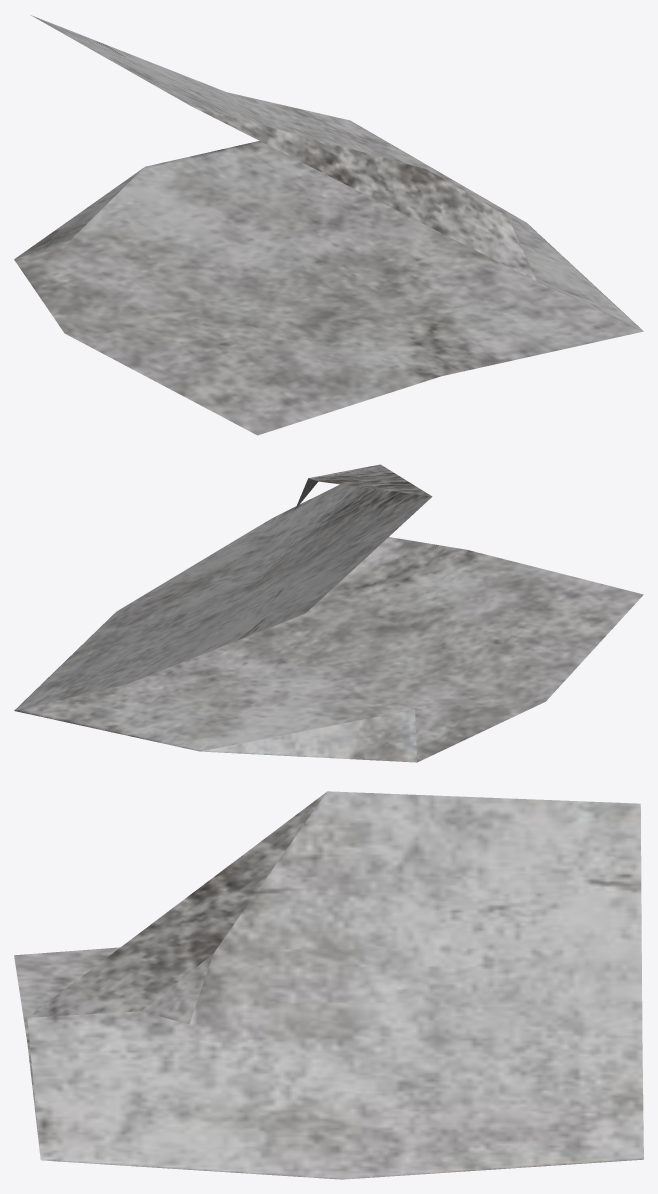
Rendered from prop_paper_ball_b.glb.
The picture shows the model from 3 angles, top to bottom: view 1: azimuth 30°, elevation 25°; view 2: azimuth 150°, elevation 25°; view 3: azimuth 270°, elevation 25°; orthographic projection. The views are drawn at different scales.
Visible parts, largest first — view 1: Paper_06_GEO_Paper6x_0; view 2: Paper_06_GEO_Paper6x_0; view 3: Paper_06_GEO_Paper6x_0.
Part boxes in pixels (box(x1,y1,x2,y2)): Paper_06_GEO_Paper6x_0: box(14, 15, 643, 435); Paper_06_GEO_Paper6x_0: box(14, 464, 643, 762); Paper_06_GEO_Paper6x_0: box(14, 791, 643, 1179).
Bounding box in the file's own units: 0.3128 × 0.1313 × 0.3501.
Materials: 1 (1 with a texture image).
